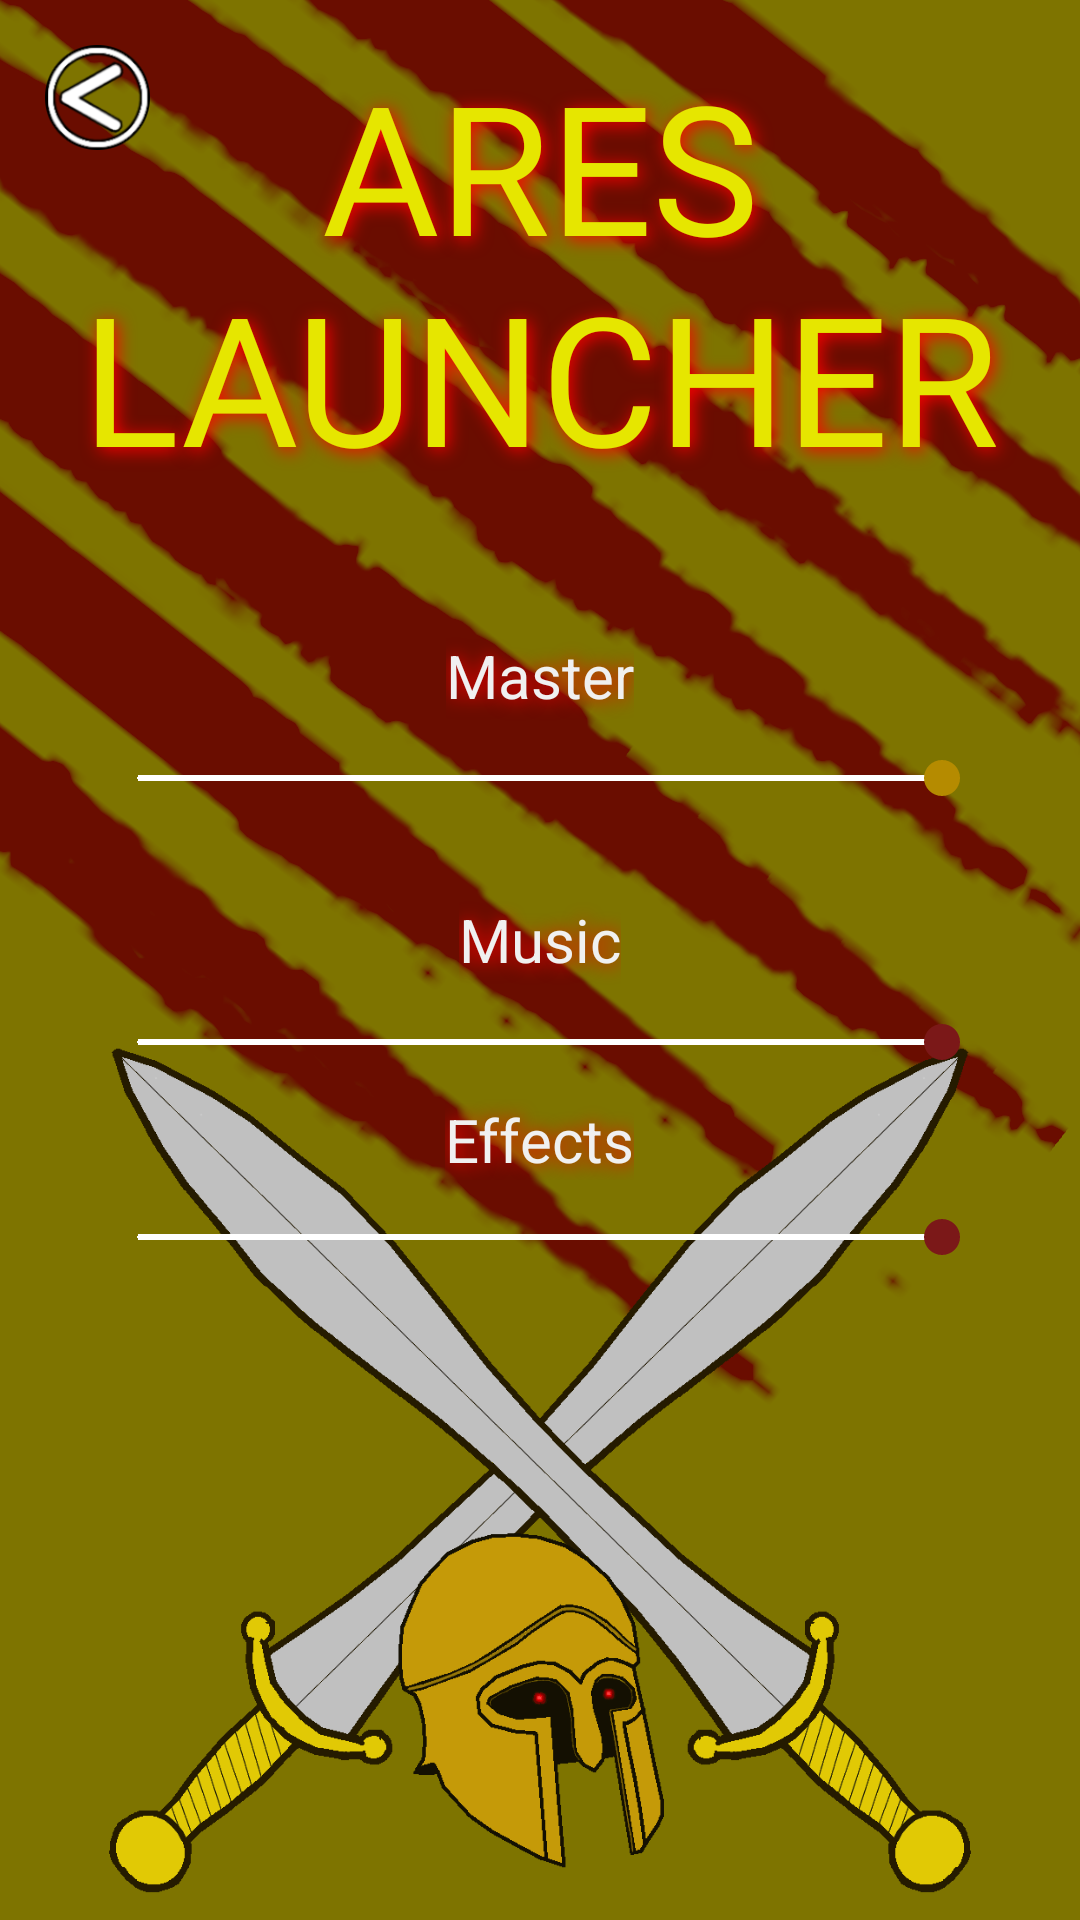

Named icons in this screenshot (1080x1920) and their bounding boxes, (x1, y1, x2, y2):
back: (45, 45, 150, 150)
